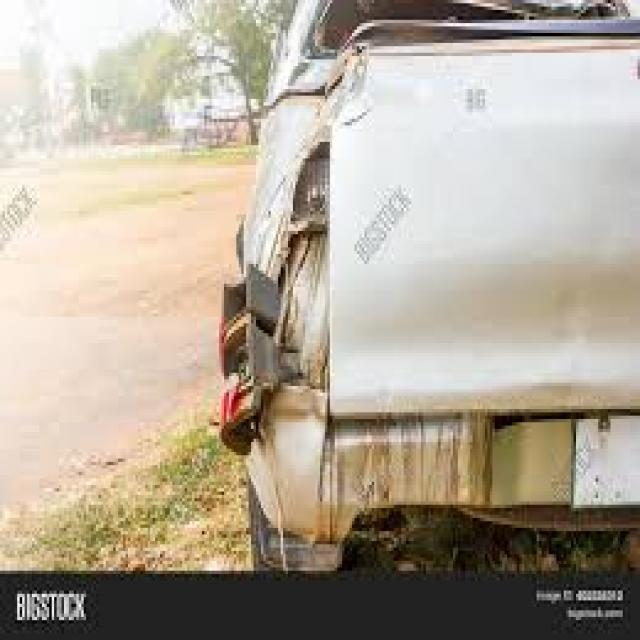damaged-tail-light: (212, 142, 336, 442)
